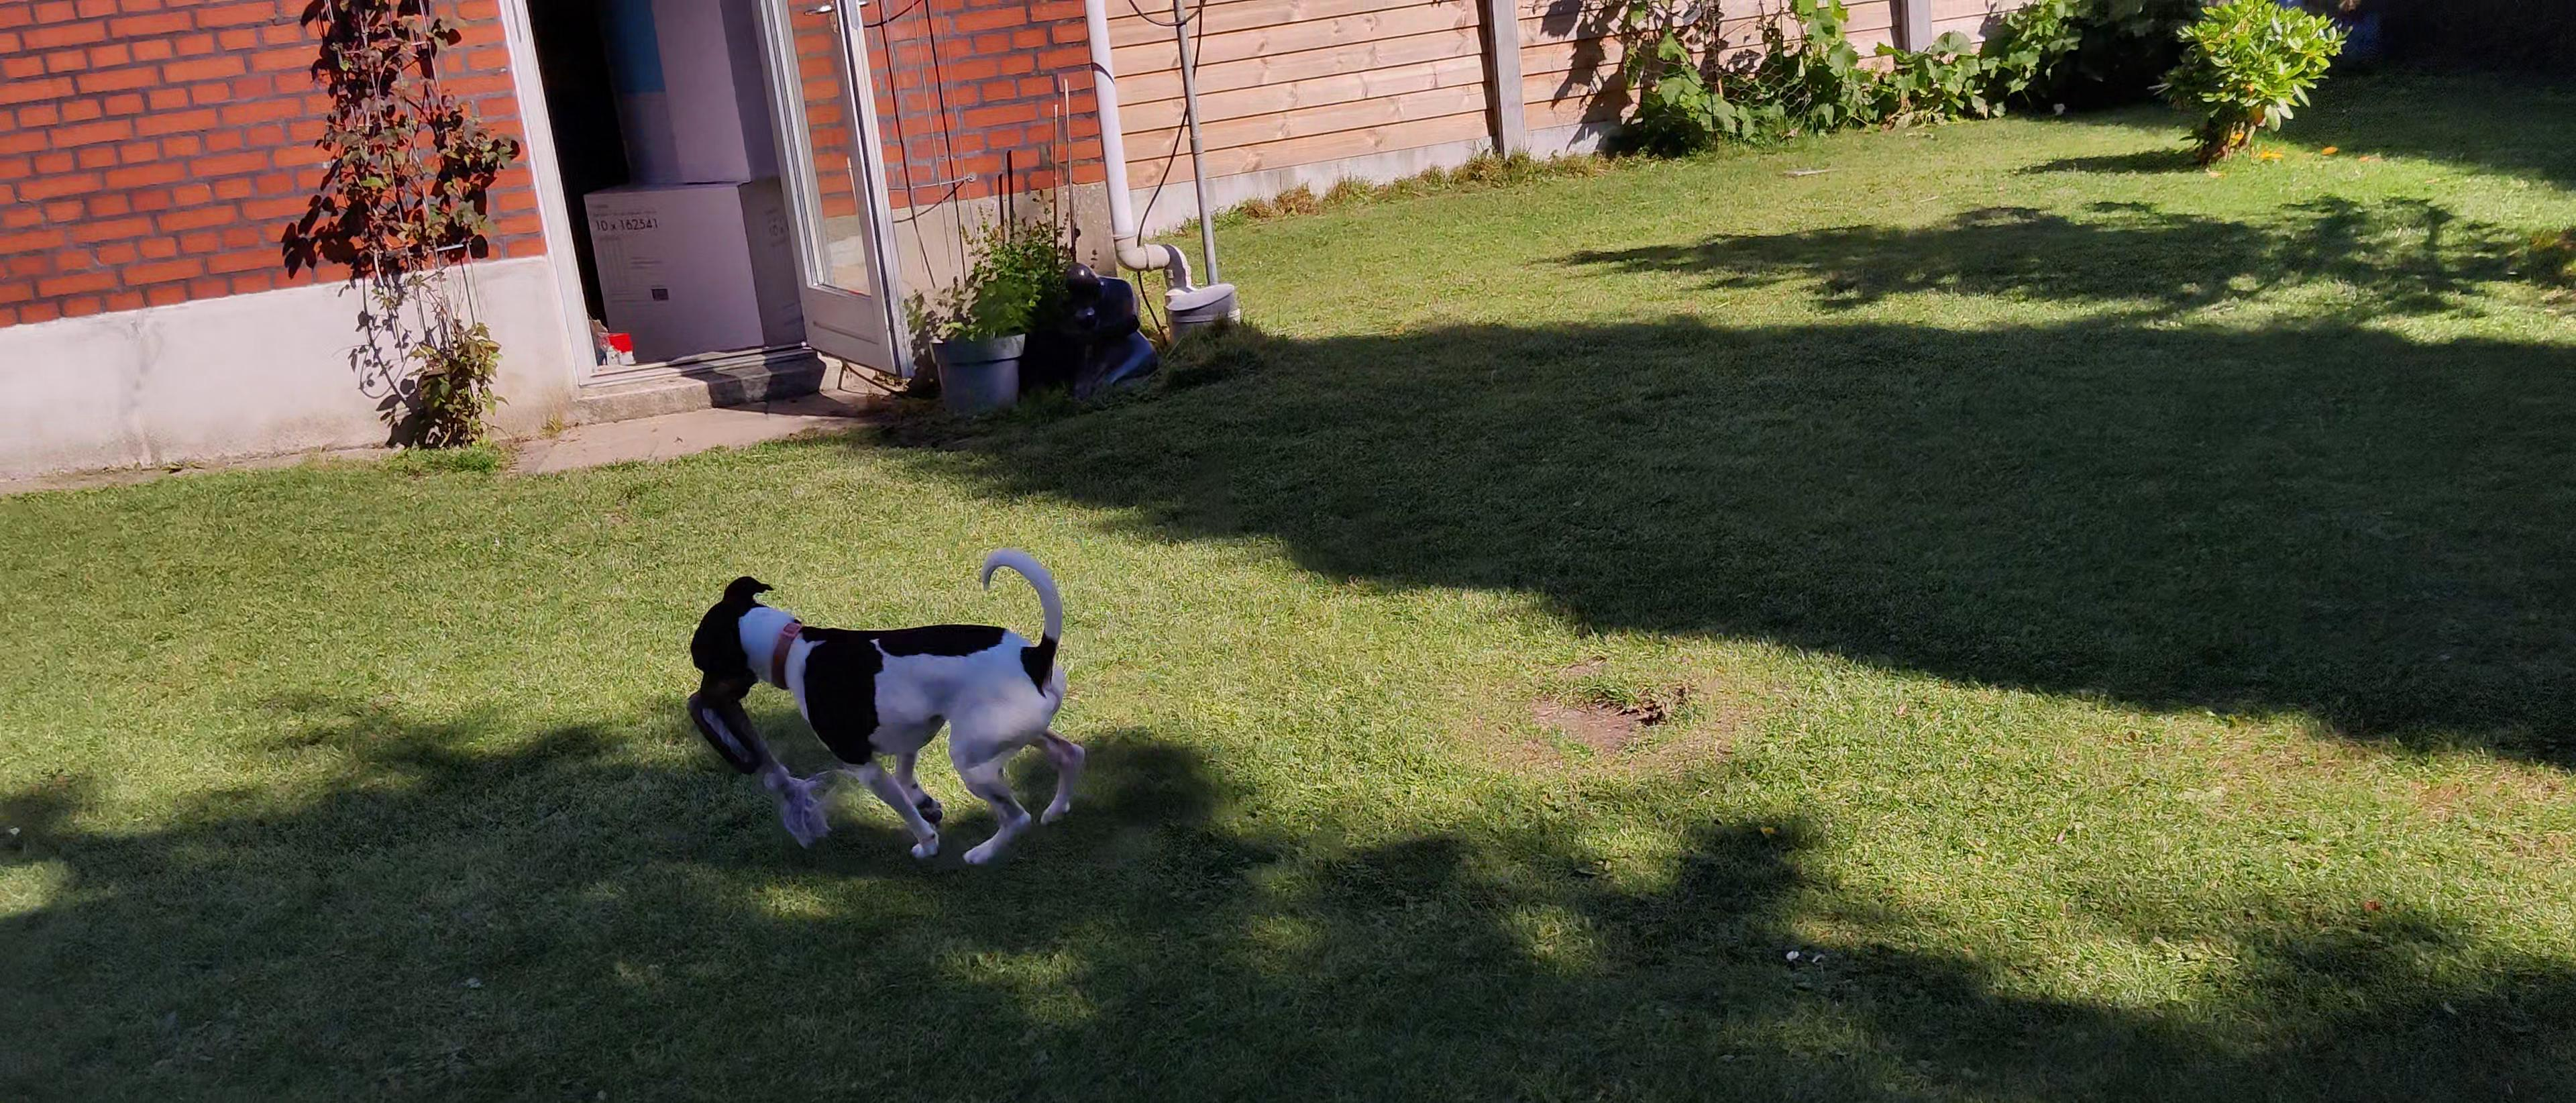Dog: (677, 511, 1097, 891)
